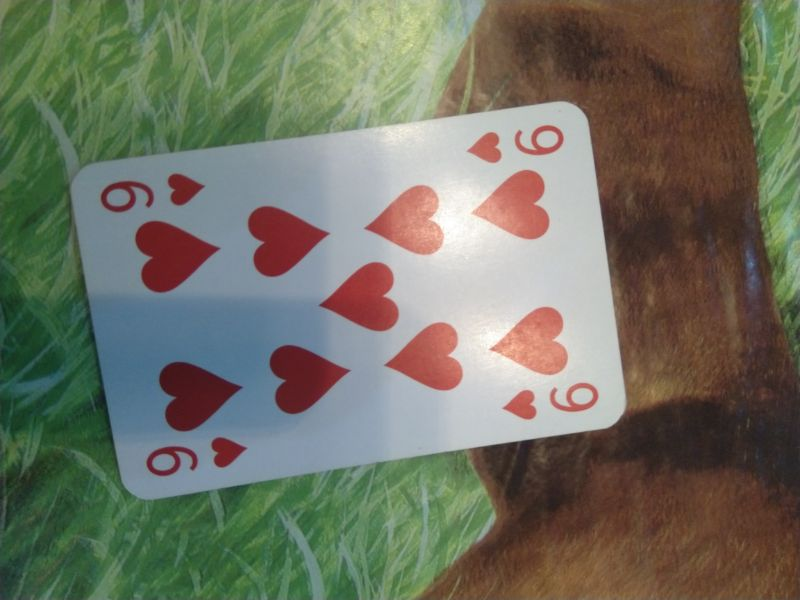9h: (97, 166, 210, 216), (143, 434, 253, 482), (465, 119, 568, 169), (499, 376, 603, 422)
